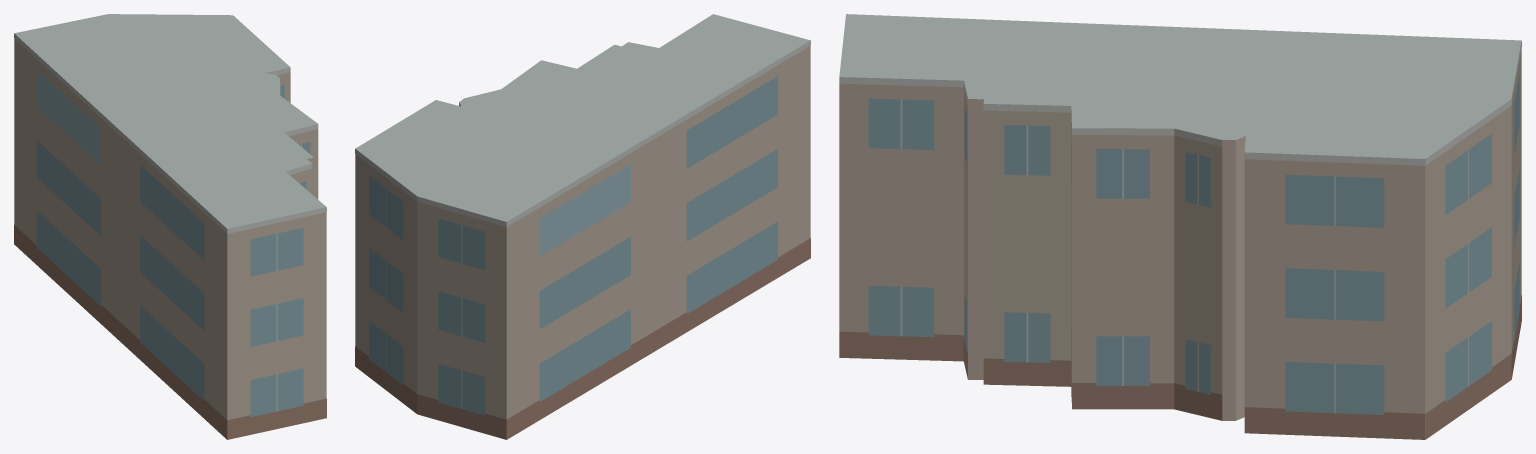
Rendered from survey-upis-32630906.glb.
3 renders of one model, left to right at view 1: azimuth 30°, elevation 25°; view 2: azimuth 150°, elevation 25°; view 3: azimuth 270°, elevation 25°, orthographic. The views are drawn at different scales.
Visible parts, largest first — view 1: survey-upis-32630906.tmp; view 2: survey-upis-32630906.tmp; view 3: survey-upis-32630906.tmp.
Part boxes in pixels (x1=…): survey-upis-32630906.tmp: x1=14, y1=14, x2=326, y2=439; survey-upis-32630906.tmp: x1=355, y1=14, x2=810, y2=439; survey-upis-32630906.tmp: x1=839, y1=14, x2=1521, y2=439.
Size of the model in its own units: 11.31 by 10.2 by 22.48.
